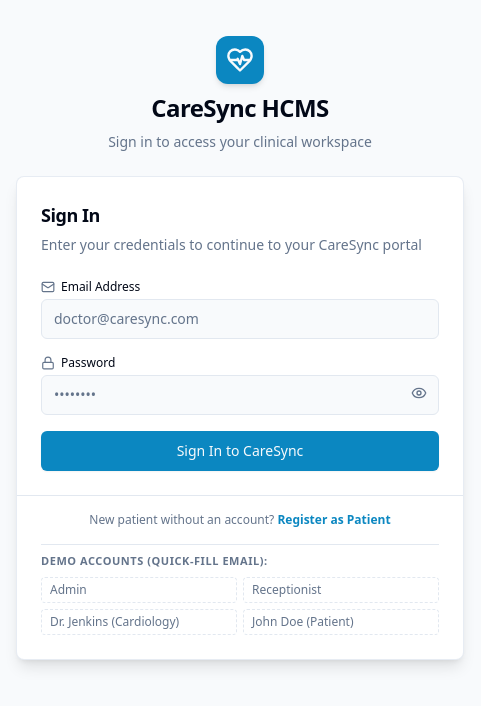
Test: LoginPage › displays validation errors when submitting empty form
Click the button "Sign In to CareSync" at coordinates (240, 451), box [41,431,439,471]
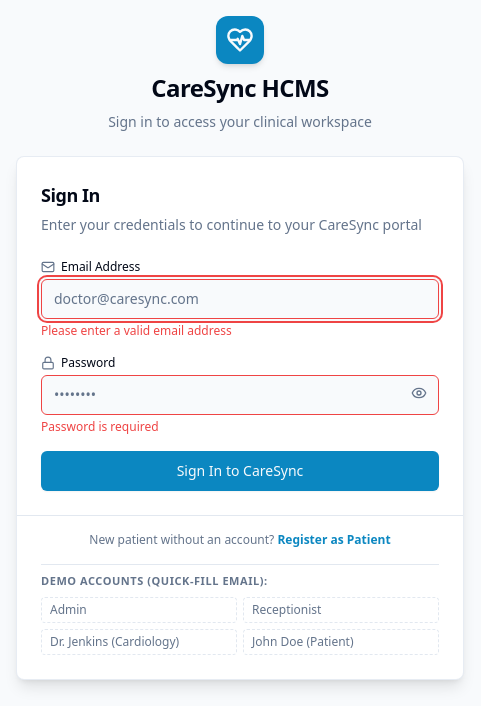
Expected: the text "Please enter a valid email address" is shown, [41,322,232,339]
Expected: the text "Password is required" is shown, [41,418,159,435]
